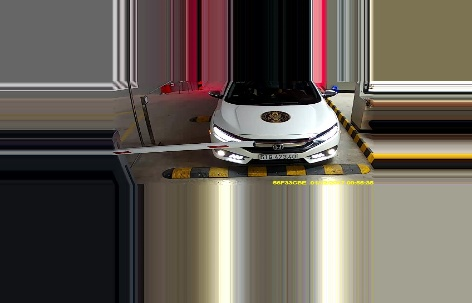plate: (253, 151, 298, 162)
